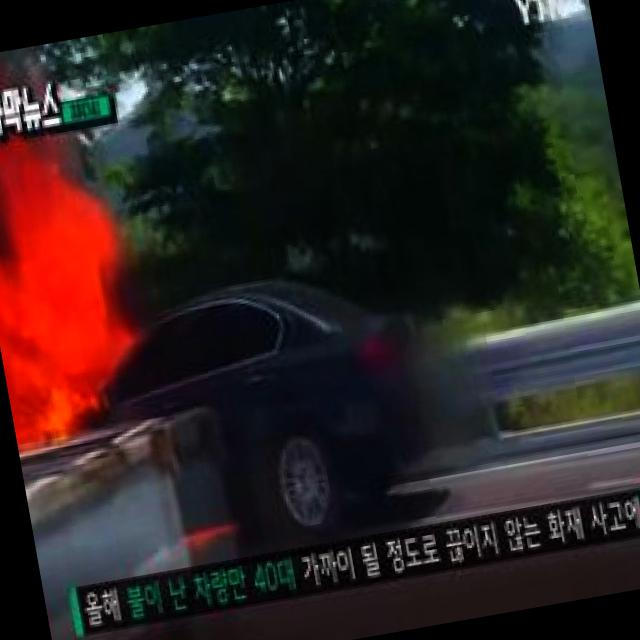fire: (0, 118, 157, 451)
